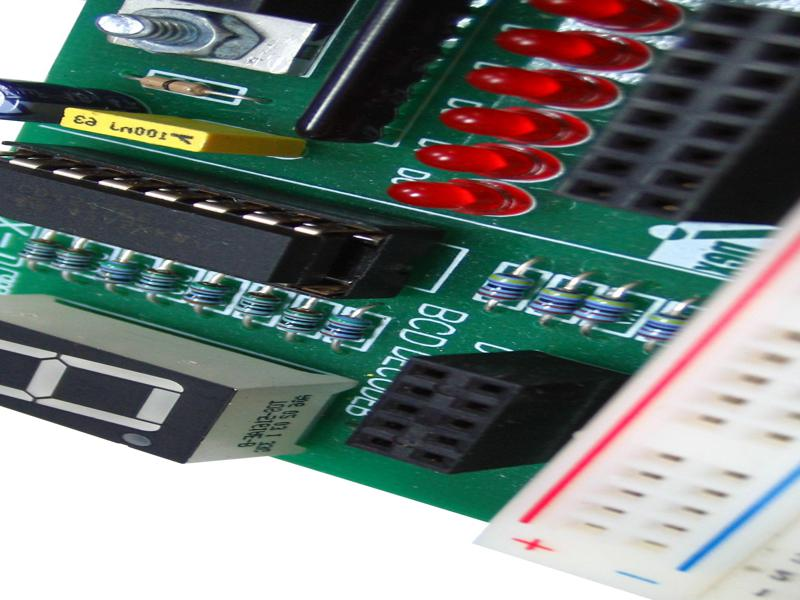Capacitor: (1, 69, 150, 128)
LED: (494, 23, 655, 76), (463, 63, 623, 112), (435, 102, 592, 149), (412, 139, 564, 186), (384, 176, 535, 221), (524, 1, 695, 39)
Resistor: (137, 69, 231, 105), (475, 264, 531, 309), (574, 286, 629, 331), (319, 309, 376, 349), (637, 305, 690, 348), (529, 279, 584, 320), (135, 261, 184, 304), (232, 285, 284, 325), (180, 276, 234, 312), (276, 300, 325, 339), (94, 252, 139, 291), (53, 241, 96, 281), (16, 231, 59, 269)
